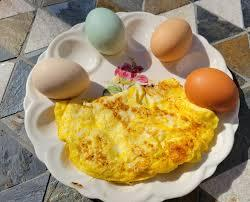egg: (30, 56, 90, 99), (185, 66, 238, 114), (151, 16, 194, 64), (86, 3, 123, 58)
